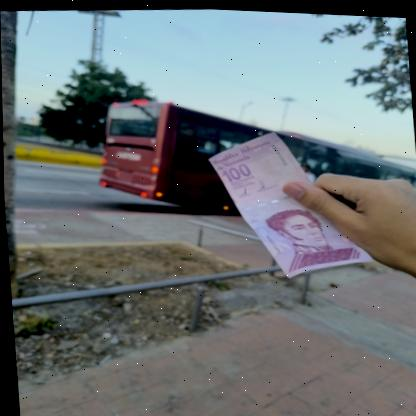one_hundred-front-vef: (204, 120, 373, 282)
